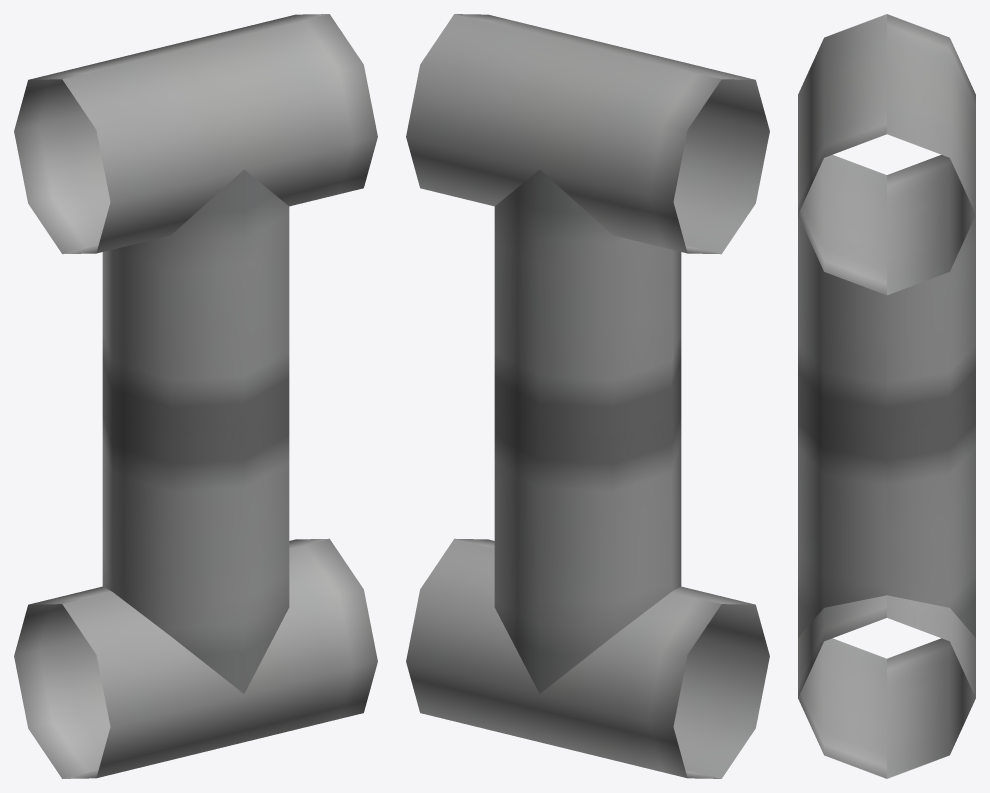
The model's file is Eridani_Antenna_4_Arm4.obj.
The picture shows the model from 3 angles, left to right: view 1: azimuth 30°, elevation 25°; view 2: azimuth 150°, elevation 25°; view 3: azimuth 270°, elevation 25°; orthographic projection. The views are drawn at different scales.
Parts seen in each view (by area): view 1: Eridani_Antenna_4_Arm4; view 2: Eridani_Antenna_4_Arm4; view 3: Eridani_Antenna_4_Arm4.
Boxes of the visible parts, x1,y1,x2,y2 form: Eridani_Antenna_4_Arm4: [14, 14, 377, 778]; Eridani_Antenna_4_Arm4: [406, 14, 769, 778]; Eridani_Antenna_4_Arm4: [798, 14, 975, 778].
Bounding box in the file's own units: 0.1 × 0.25 × 0.0625.
